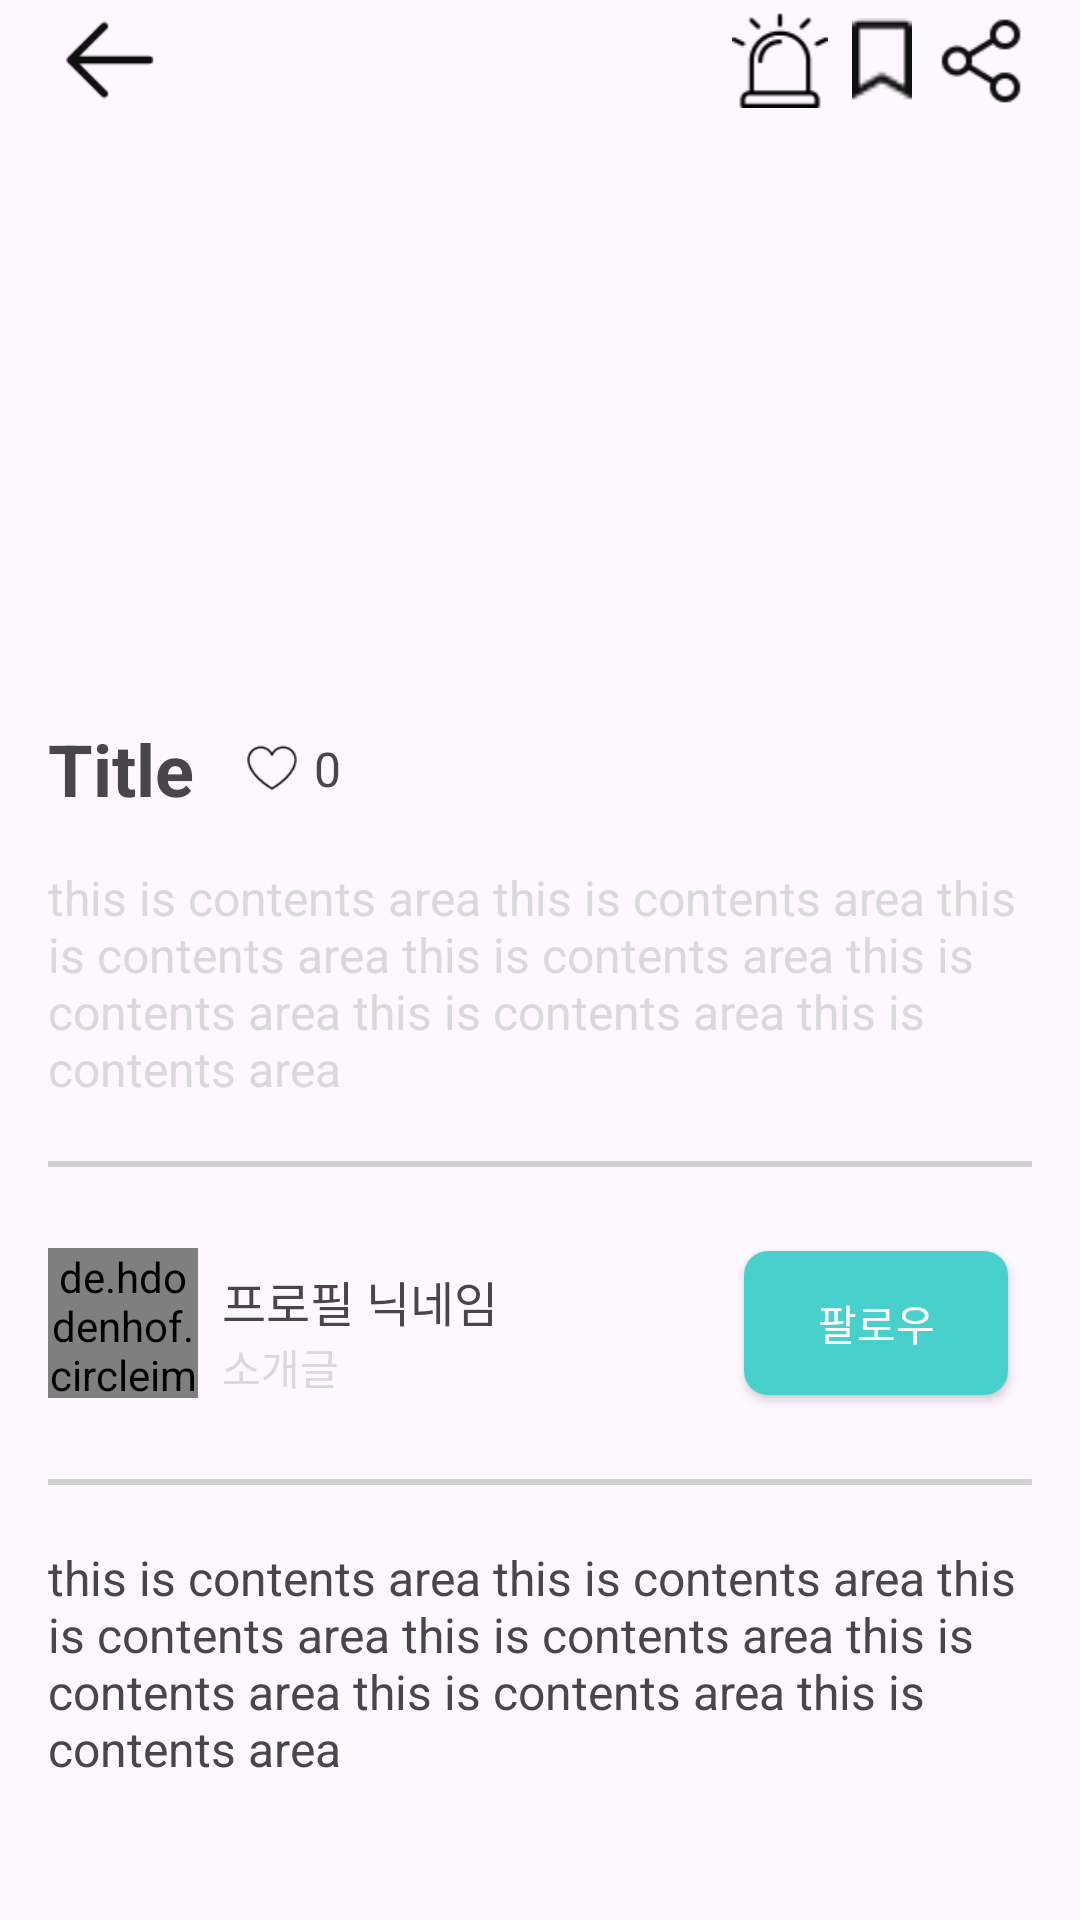

Named icons in this screenshot (1080*1920) and their bounding boxes, (x1, y1, x2, y2):
like src: (247, 745, 297, 790)
